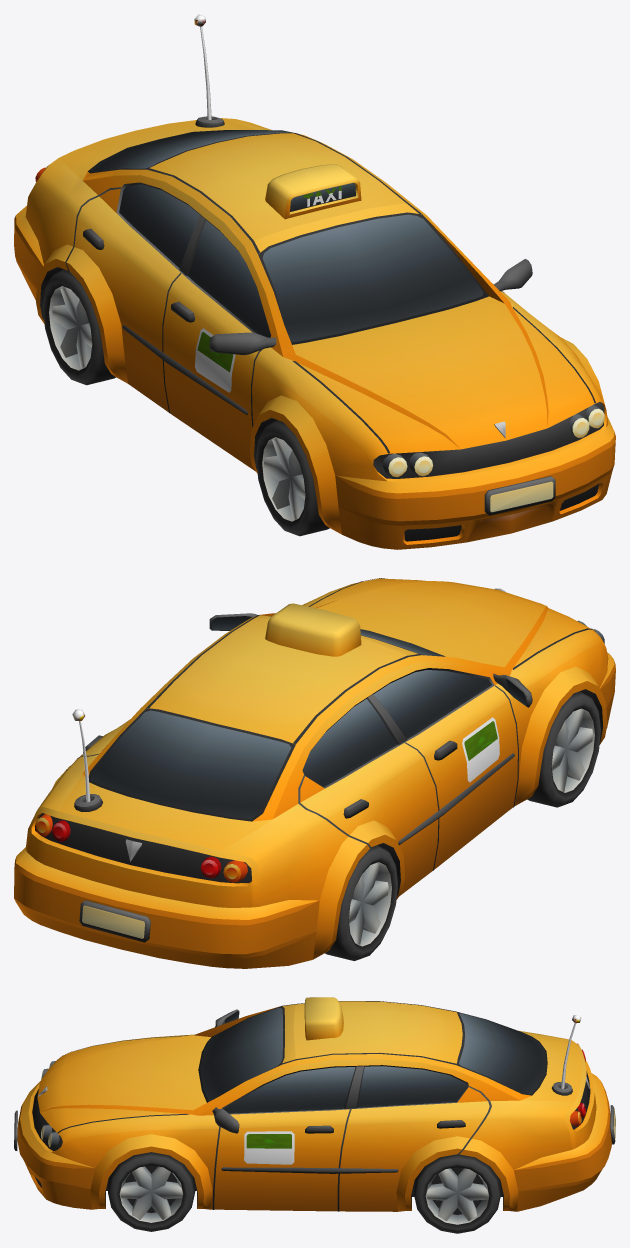
The model's file is Car_14C.fbx.
The picture shows the model from 3 angles, top to bottom: view 1: azimuth 30°, elevation 25°; view 2: azimuth 150°, elevation 25°; view 3: azimuth 270°, elevation 25°; orthographic projection. The views are drawn at different scales.
Visible parts, largest first — view 1: Car_14C, Wheel_14C_F.R, Wheel_14C_R.R, Livery_14C; view 2: Car_14C, Wheel_14C_F.R, Wheel_14C_R.R, Livery_14C; view 3: Car_14C, Wheel_14C_F.L, Wheel_14C_R.L, Livery_14C.
Part boxes in pixels (left/top/right/bottom): Car_14C: left=14, top=116, right=615, bottom=549; Wheel_14C_F.R: left=256, top=420, right=329, bottom=536; Wheel_14C_R.R: left=43, top=269, right=115, bottom=385; Livery_14C: left=195, top=186, right=341, bottom=392; Car_14C: left=14, top=578, right=615, bottom=968; Wheel_14C_F.R: left=527, top=691, right=600, bottom=807; Wheel_14C_R.R: left=325, top=845, right=398, bottom=960; Livery_14C: left=462, top=717, right=499, bottom=782; Car_14C: left=14, top=997, right=615, bottom=1211; Wheel_14C_F.L: left=108, top=1152, right=195, bottom=1231; Wheel_14C_R.L: left=414, top=1154, right=501, bottom=1233; Livery_14C: left=244, top=1131, right=294, bottom=1164.
Bounding box in the file's own units: 80.71 × 61.52 × 178.
